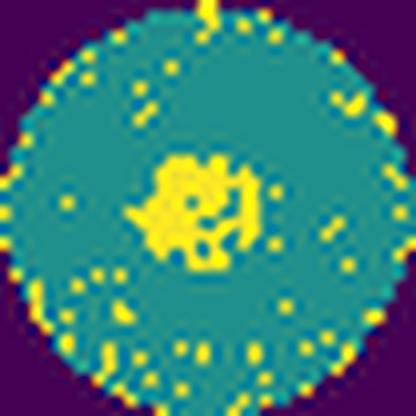Center: (127, 152, 261, 274)
